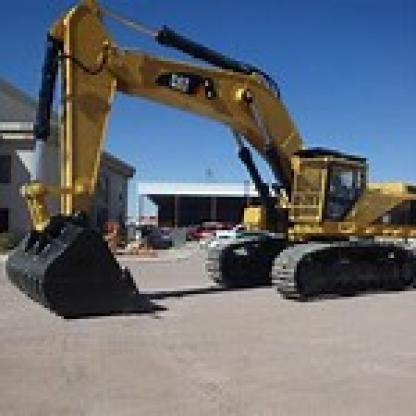excavator: (3, 3, 413, 327)
